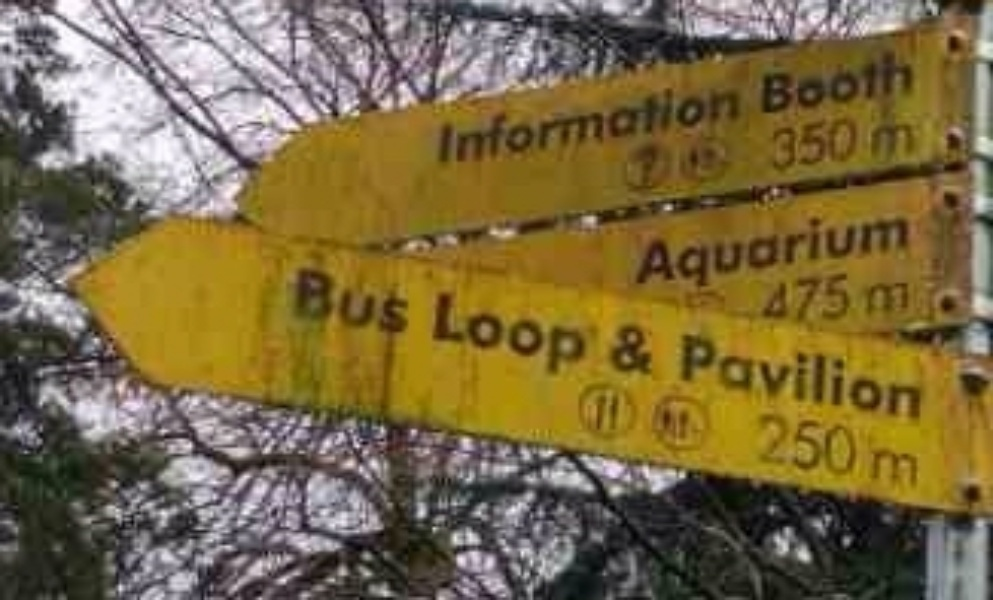text: (433, 287, 448, 387), (449, 287, 464, 387), (465, 287, 480, 387), (481, 287, 496, 387), (497, 287, 512, 387), (513, 287, 528, 387), (529, 287, 544, 387), (545, 287, 560, 387), (561, 287, 576, 387), (641, 198, 656, 296), (657, 198, 672, 296), (673, 198, 688, 296), (689, 198, 704, 296), (705, 198, 720, 296), (721, 198, 736, 296), (737, 198, 752, 296), (753, 198, 768, 296), (769, 198, 784, 296), (785, 198, 800, 296), (801, 198, 816, 296), (817, 198, 832, 296), (833, 198, 848, 296), (849, 198, 864, 296), (865, 198, 880, 296), (881, 198, 896, 296), (897, 198, 912, 296), (689, 329, 704, 424), (705, 329, 720, 424), (721, 329, 736, 424), (737, 329, 752, 424), (753, 329, 768, 424), (769, 329, 784, 424), (785, 329, 800, 424), (801, 329, 816, 424), (817, 329, 832, 424), (833, 329, 848, 424), (849, 329, 864, 424), (865, 329, 880, 424), (881, 329, 896, 424), (897, 329, 912, 424), (577, 287, 591, 387), (449, 77, 464, 165), (465, 77, 480, 165), (481, 77, 496, 165), (497, 77, 512, 165), (513, 77, 528, 165), (529, 77, 544, 165), (545, 77, 560, 165), (561, 77, 576, 165), (577, 77, 592, 165), (593, 77, 608, 165), (609, 77, 624, 165), (625, 77, 640, 165), (641, 77, 656, 165), (657, 77, 672, 165), (673, 77, 688, 165), (689, 77, 704, 165), (705, 77, 720, 165), (721, 77, 736, 165), (913, 329, 926, 424), (305, 259, 320, 336), (321, 259, 336, 336), (337, 259, 352, 336), (353, 259, 368, 336), (369, 259, 384, 336), (385, 259, 400, 336), (769, 406, 784, 482), (785, 406, 800, 482), (801, 406, 816, 482), (817, 406, 832, 482), (833, 406, 848, 482), (769, 46, 784, 119), (785, 46, 800, 119), (801, 46, 816, 119), (817, 46, 832, 119), (833, 46, 848, 119), (849, 46, 864, 119), (865, 46, 880, 119), (881, 46, 896, 119), (897, 46, 912, 119), (436, 77, 448, 165), (785, 110, 800, 177), (801, 110, 816, 177), (817, 110, 832, 177), (833, 110, 848, 177), (625, 317, 640, 381), (641, 317, 656, 381), (756, 406, 768, 482), (737, 77, 747, 165), (756, 46, 768, 119), (771, 110, 784, 177), (293, 259, 304, 336), (401, 259, 412, 336), (801, 272, 816, 326), (817, 272, 832, 326), (833, 272, 848, 326), (881, 442, 896, 494), (897, 442, 912, 494), (680, 329, 688, 424), (849, 406, 859, 482), (881, 116, 896, 165), (897, 116, 912, 165), (613, 317, 624, 381), (866, 116, 880, 165), (881, 278, 896, 320), (634, 198, 640, 296), (866, 278, 880, 320), (897, 278, 911, 320), (913, 442, 923, 494), (849, 110, 856, 177), (792, 272, 800, 326), (872, 442, 880, 494), (913, 46, 917, 119), (657, 317, 661, 381), (849, 272, 853, 326), (913, 116, 917, 165), (913, 198, 914, 296)
